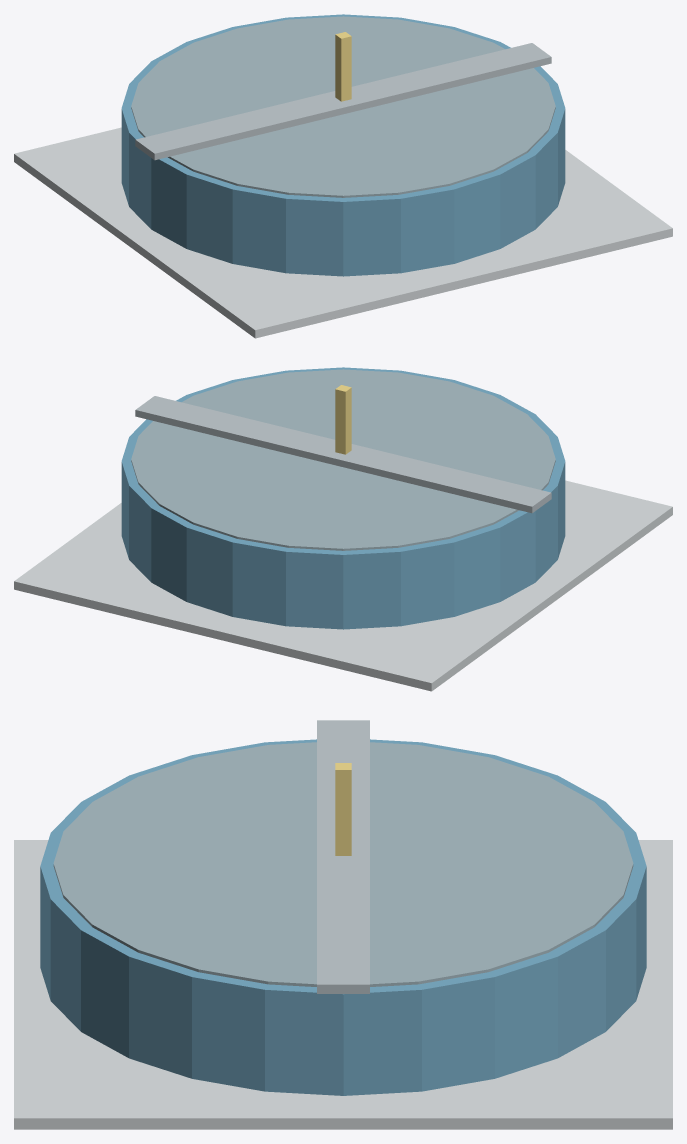
File: thickener.glb
3 views of the same model, one above another, from view 1: azimuth 30°, elevation 25°; view 2: azimuth 150°, elevation 25°; view 3: azimuth 270°, elevation 25° (orthographic). The views are drawn at different scales.
Parts seen in each view (by area): view 1: thickener; view 2: thickener; view 3: thickener.
Part boxes in pixels (x1,y1,x2,y2): thickener: [14, 14, 672, 338]; thickener: [14, 367, 672, 691]; thickener: [14, 720, 672, 1129].
Bounding box in the file's own units: 16 × 6 × 16.
